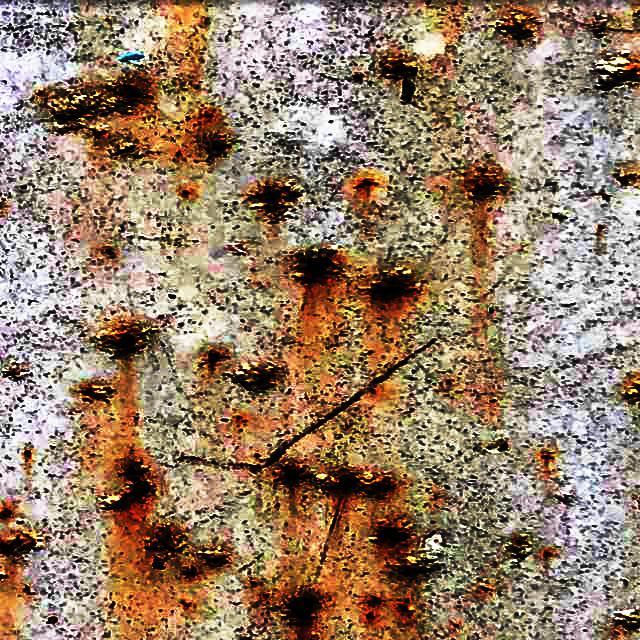Corrosion: (38, 74, 152, 123), (273, 461, 395, 496), (100, 460, 151, 510), (97, 323, 153, 356), (145, 525, 185, 570), (254, 183, 301, 220), (295, 249, 342, 282), (384, 56, 416, 102), (596, 52, 640, 84), (370, 268, 419, 296), (235, 364, 282, 392), (497, 10, 539, 38), (374, 518, 414, 546), (286, 594, 320, 626), (390, 557, 438, 576), (0, 533, 38, 556), (473, 169, 504, 196), (203, 132, 231, 157), (195, 549, 230, 568), (509, 535, 533, 562), (365, 597, 385, 624), (80, 384, 113, 400), (615, 610, 640, 630), (2, 362, 29, 380), (201, 351, 227, 368), (592, 14, 610, 36), (353, 176, 379, 190), (109, 143, 135, 156), (627, 378, 640, 402), (397, 601, 415, 618), (618, 173, 640, 186), (182, 565, 201, 580), (479, 581, 495, 594), (0, 506, 13, 520), (21, 449, 33, 464), (88, 128, 106, 137), (543, 549, 557, 560), (542, 452, 555, 462), (181, 188, 193, 196)
